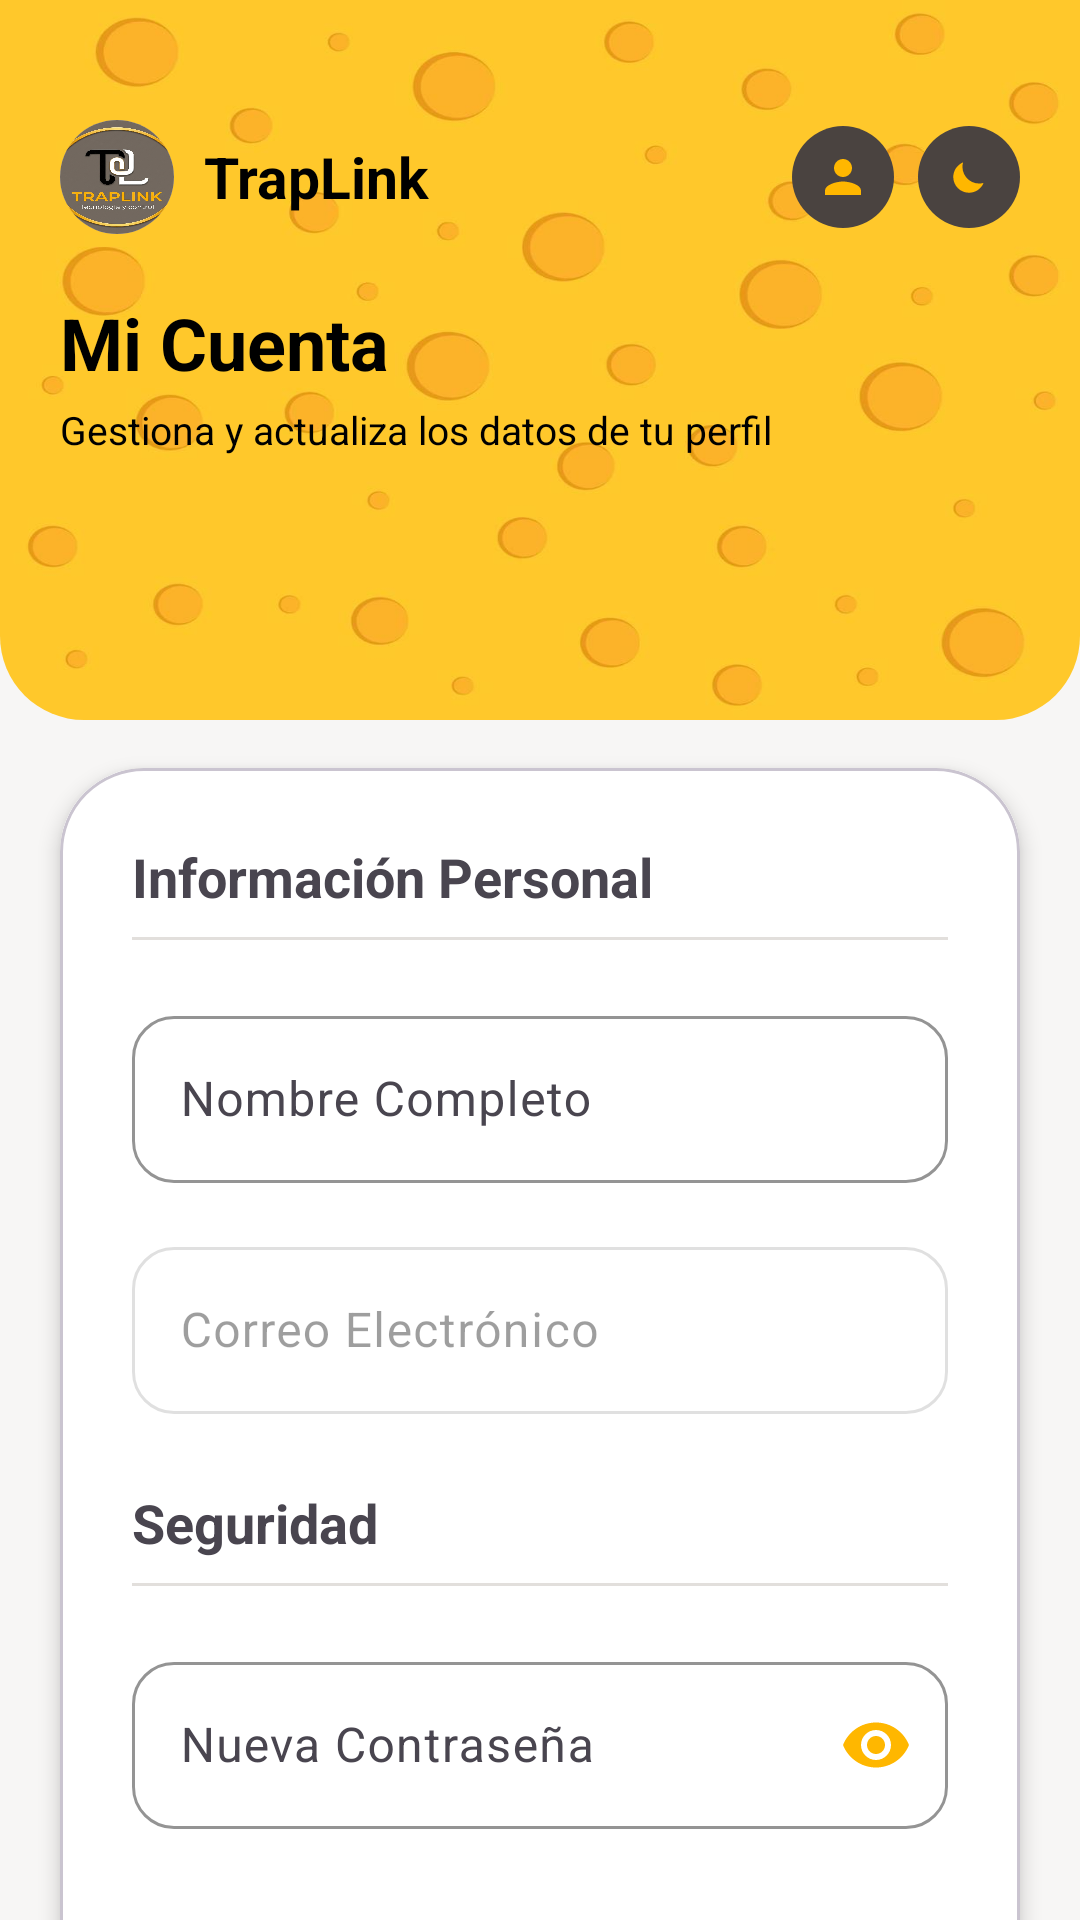

Icon bounding boxes for this 1080w x 1920h phone screenshot, format bbox(x1, y1, x2, y2):
moon: bbox(953, 162, 984, 193)
user: bbox(825, 159, 861, 195)
